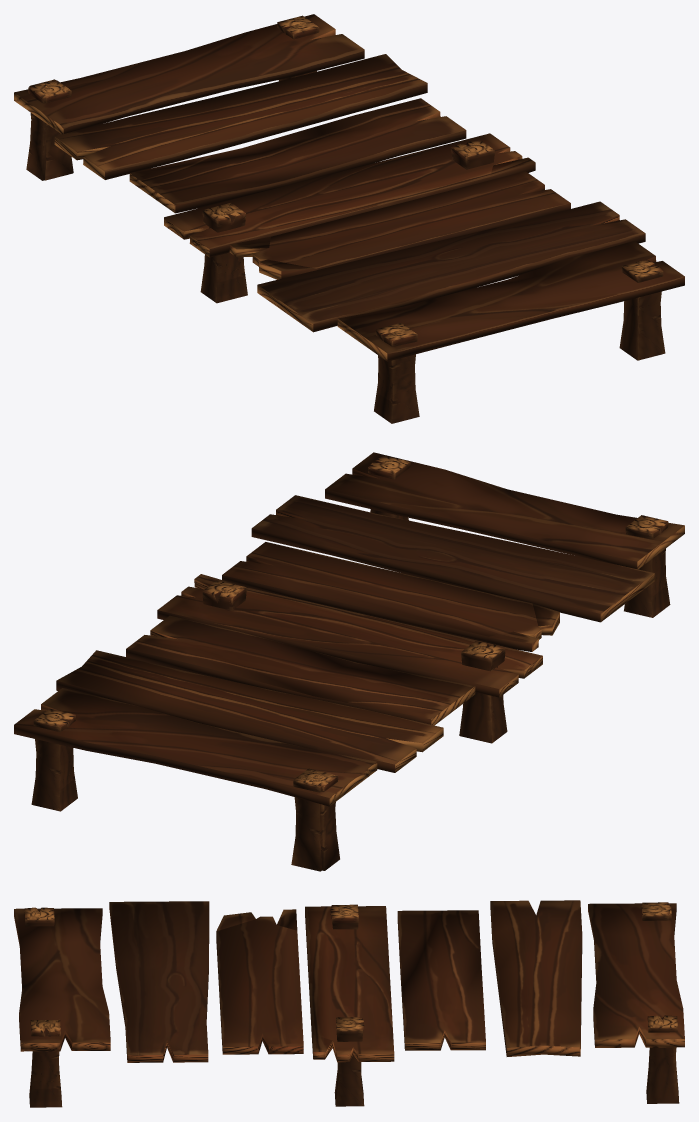
File: ruins of the monastery.glb
3 views of the same model, one above another, from view 1: azimuth 30°, elevation 25°; view 2: azimuth 150°, elevation 25°; view 3: azimuth 270°, elevation 25° (orthographic). The views are drawn at different scales.
Parts seen in each view (by area): view 1: bridge; view 2: bridge; view 3: bridge.
Boxes of the visible parts, <box> form: bridge: <box>14,14,684,423</box>; bridge: <box>14,452,684,871</box>; bridge: <box>14,900,684,1107</box>.
Size of the model in its own units: 2.61 by 0.5947 by 4.79.
Materials: 1 (1 with a texture image).
